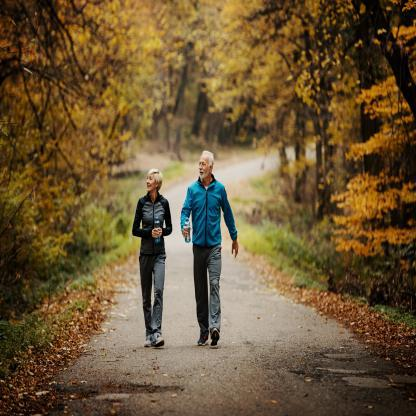person: (181, 149, 236, 347), (131, 167, 171, 350)
